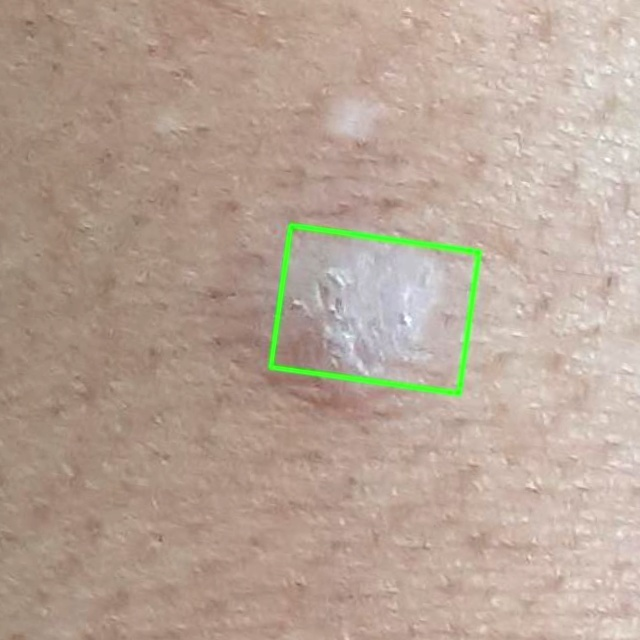Contact Dermatitis: (270, 225, 479, 393)
